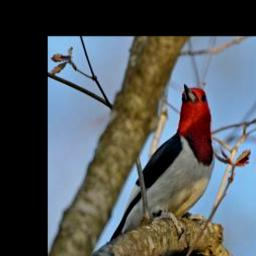Woodpecker: (102, 74, 221, 256)
